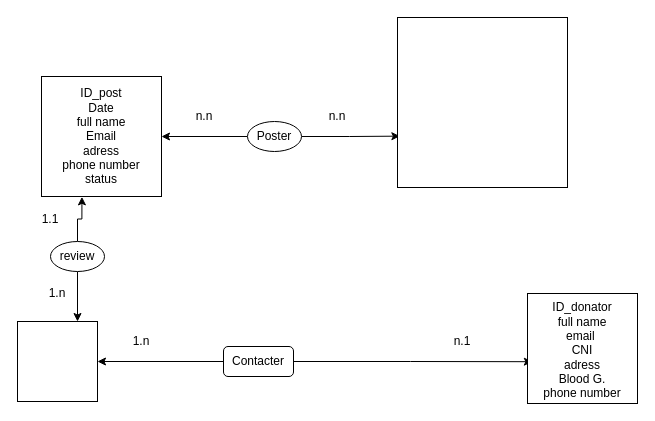
This 655x421 diagram has some shape labels left out. The centre of each missing label's shape, as x and y in pixels:
"ID_admin Name Email Password" belongs at point 57,361.
"ID_User full name email CNI adress Blood G. phone number" belongs at point 482,102.
